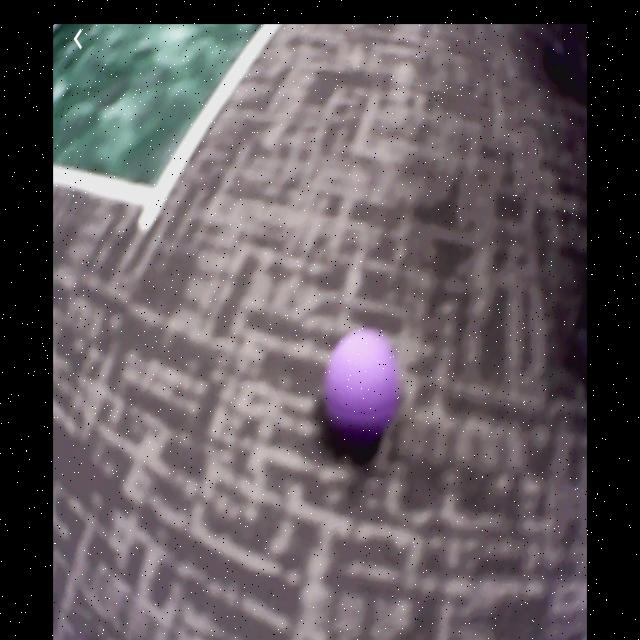ball: (323, 334, 399, 439)
